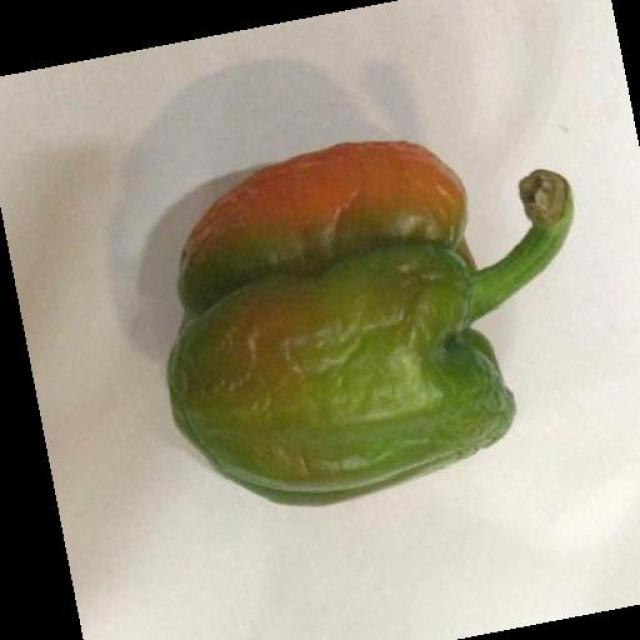Stale_Capsicum: (139, 127, 568, 495)
